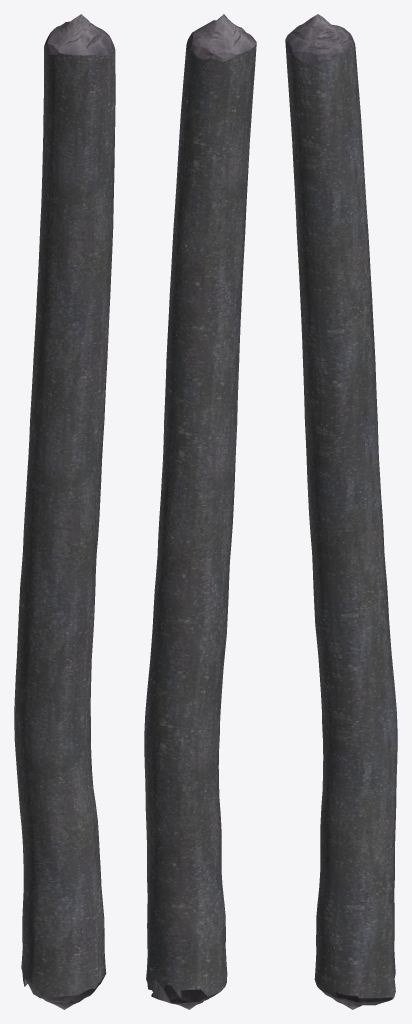
3 renders of one model, left to right at view 1: azimuth 90°, elevation 25°; view 2: azimuth 150°, elevation 25°; view 3: azimuth 330°, elevation 25°, orthographic.
Visible parts, largest first — view 1: SM_FH_Ash_Tree_01_tree_quarters_bottom_LOD0; view 2: SM_FH_Ash_Tree_01_tree_quarters_bottom_LOD0; view 3: SM_FH_Ash_Tree_01_tree_quarters_bottom_LOD0.
Boxes of the visible parts, <box> form: SM_FH_Ash_Tree_01_tree_quarters_bottom_LOD0: <box>14,14,115,1009</box>; SM_FH_Ash_Tree_01_tree_quarters_bottom_LOD0: <box>144,14,256,1009</box>; SM_FH_Ash_Tree_01_tree_quarters_bottom_LOD0: <box>285,14,397,1009</box>.
Size of the model in its own units: 0.7025 by 6.94 by 0.6313.
Materials: 1 (1 with a texture image).
